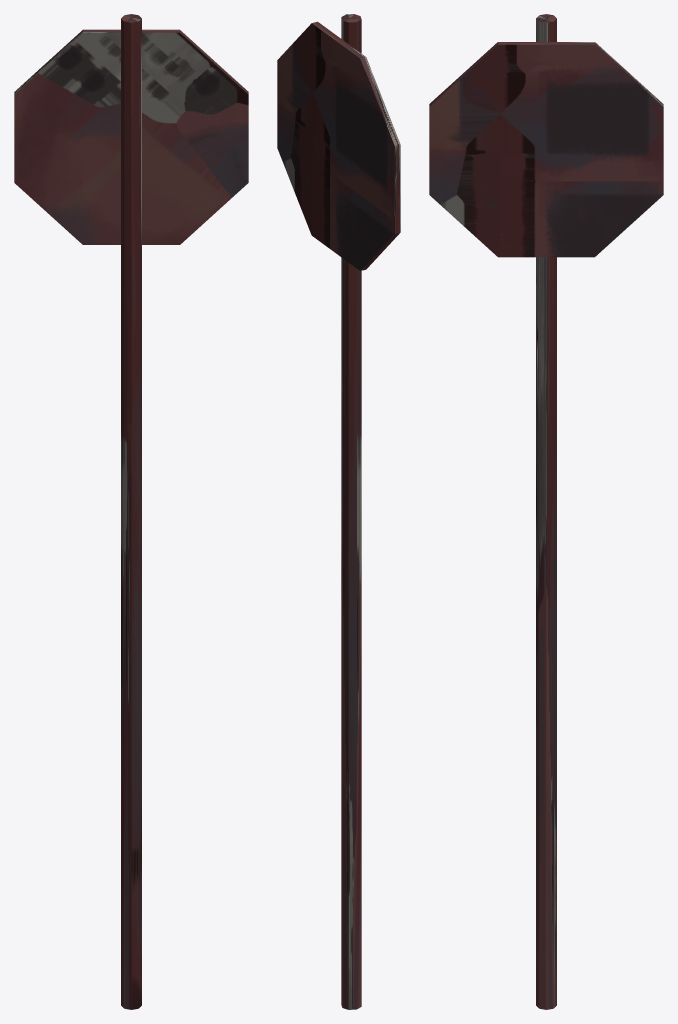
Rendered from road sign 1.fbx.
3 renders of one model, left to right at view 1: azimuth 90°, elevation 25°; view 2: azimuth 210°, elevation 25°; view 3: azimuth 270°, elevation 25°, orthographic.
Parts seen in each view (by area): view 1: road sign 1; view 2: road sign 1; view 3: road sign 1.
Part boxes in pixels (<box>): road sign 1: <box>14,14,248,1009</box>; road sign 1: <box>277,14,400,1009</box>; road sign 1: <box>429,14,663,1009</box>.
Bounding box in the file's own units: 55.11 × 2117 × 456.
